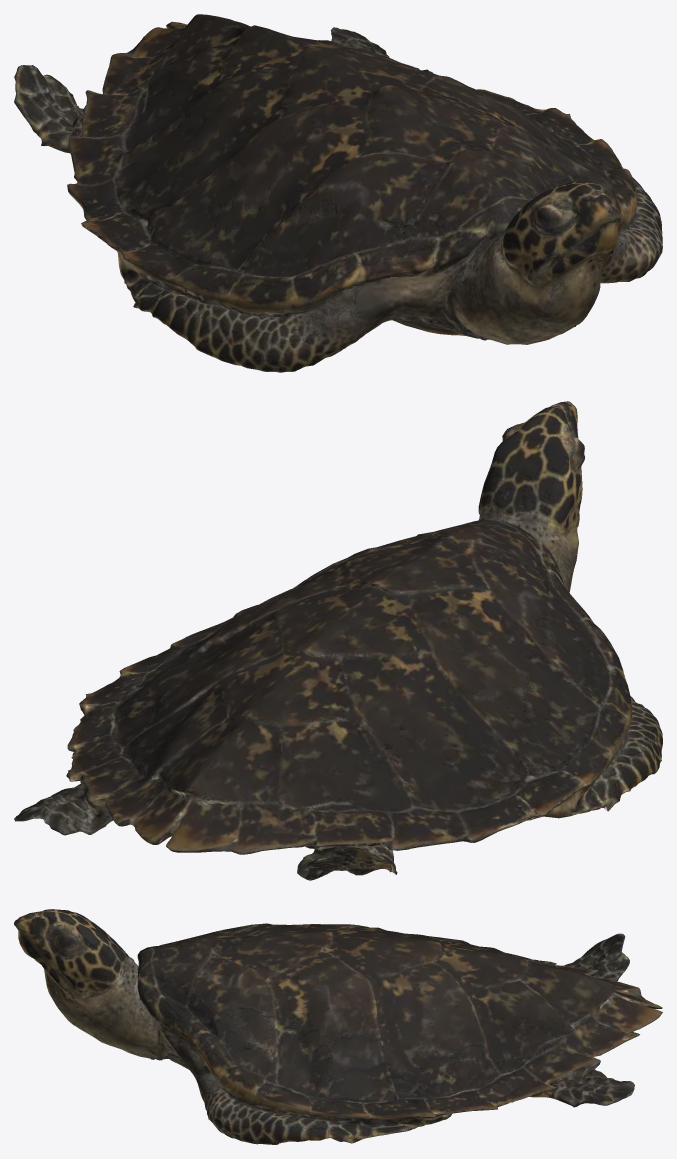
The model's file is tortuga.glb.
3 renders of one model, top to bottom at view 1: azimuth 30°, elevation 25°; view 2: azimuth 150°, elevation 25°; view 3: azimuth 270°, elevation 25°, orthographic. The views are drawn at different scales.
Visible parts, largest first — view 1: Object_2; view 2: Object_2; view 3: Object_2.
Boxes of the visible parts, x1,y1,x2,y2 form: Object_2: [14, 14, 662, 372]; Object_2: [14, 401, 662, 880]; Object_2: [14, 909, 662, 1144].
Size of the model in its own units: 291 by 123 by 445.
Materials: 3 (3 with a texture image).
